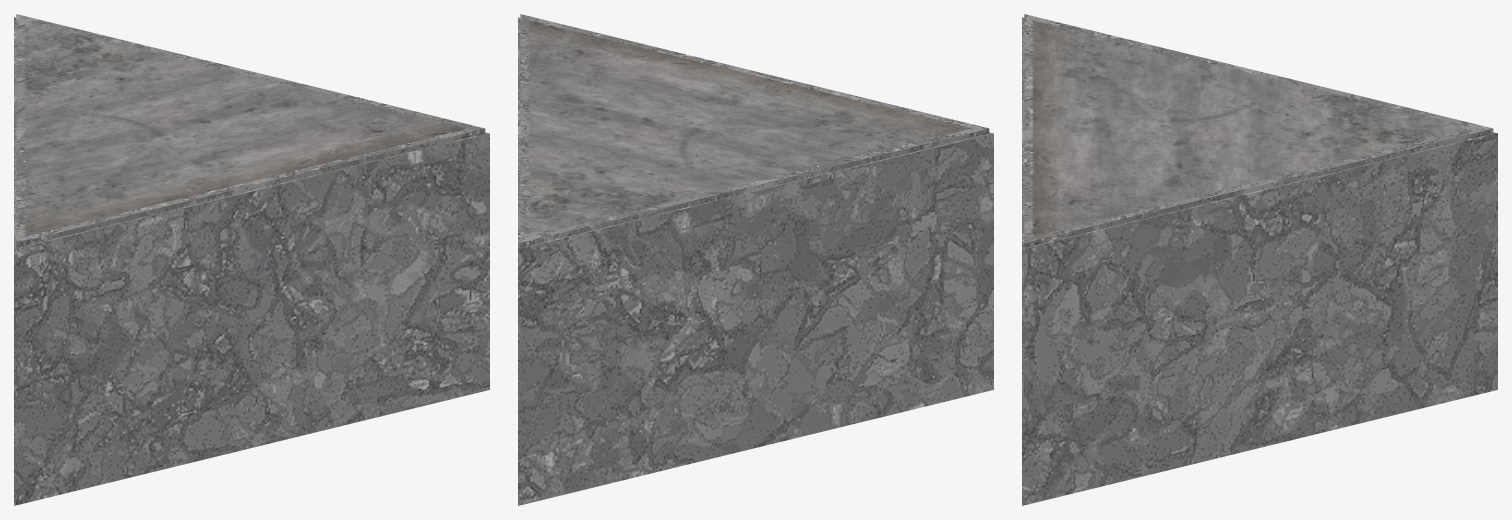
Rendered from stone_foundation_triangle_mid_textured.glb.
The picture shows the model from 3 angles, left to right: view 1: azimuth 30°, elevation 25°; view 2: azimuth 150°, elevation 25°; view 3: azimuth 270°, elevation 25°; orthographic projection.
Visible parts, largest first — view 1: Cube.001; view 2: Cube.001; view 3: Cube.001.
Boxes of the visible parts, box(x1,y1,x2,y2) form: Cube.001: box(14, 14, 489, 505); Cube.001: box(518, 14, 993, 505); Cube.001: box(1022, 14, 1497, 505).
Bounding box in the file's own units: 2 × 1.05 × 1.73.
Materials: 1 (1 with a texture image).
